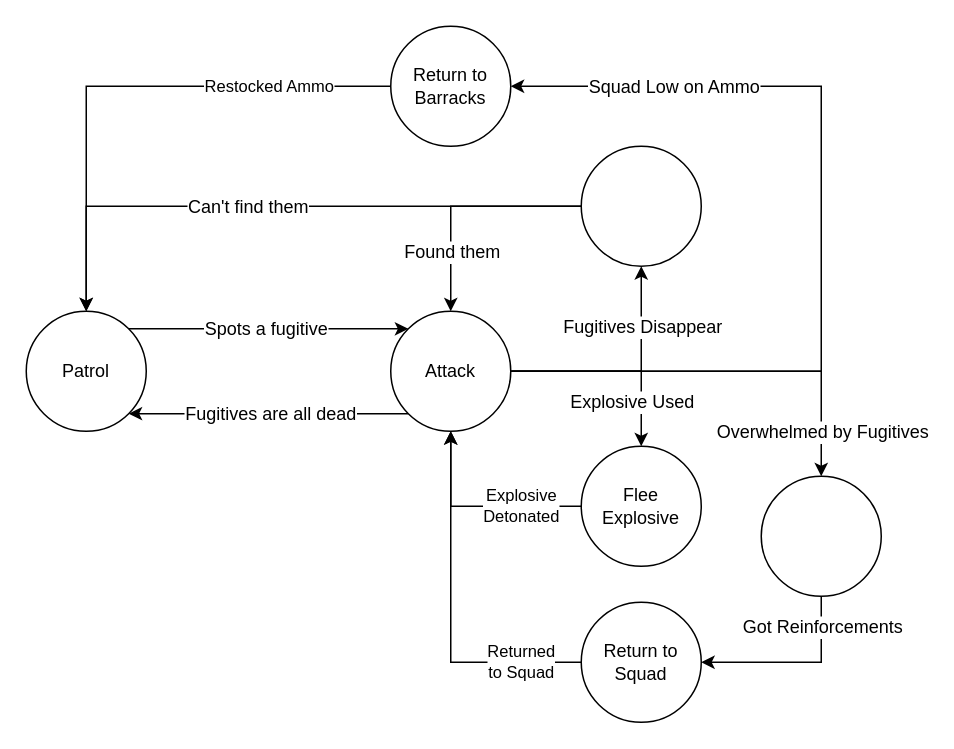
This 954x749 diagram has some shape labels left out. The box of each missing label's shape, as (x1, y1, x2, y2) in pixels:
Get More Soldiers: (760, 475, 881, 596)
Search: (580, 145, 701, 266)
